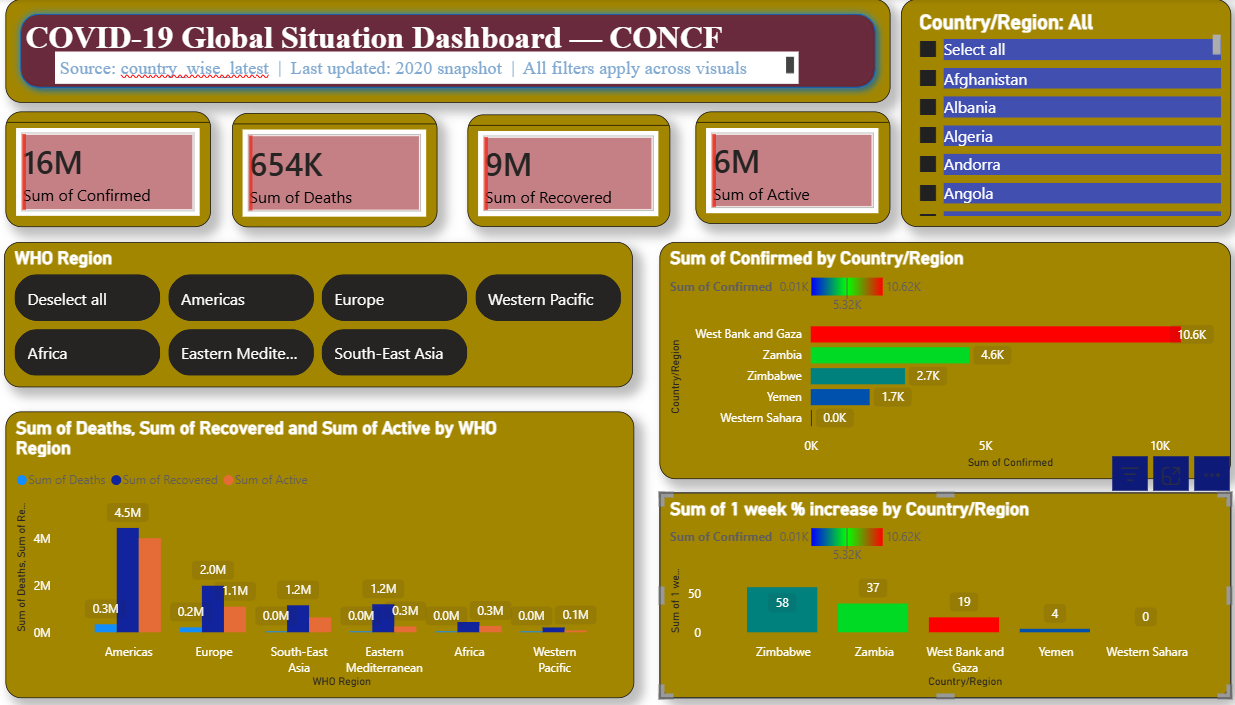

The dashboard page shown, as its layout file describes it:
{"tool":"powerbi","page":{"name":"Page 1","canvas":[1280,720],"ordinal":0},"visuals":[{"type":"shape","box":[28.8,0,893.4,104.5],"z":0},{"type":"textbox","box":[79.3,52.9,750.9,32.6],"z":1000},{"type":"cardVisual","fields":{"Data":["Sum(country_wise_latest.Confirmed)"]},"box":[28.8,113.6,207.4,116.6],"z":2000},{"type":"cardVisual","fields":{"Data":["Sum(country_wise_latest.Deaths)"]},"box":[257.4,115.1,207.4,115.1],"z":3000},{"type":"cardVisual","fields":{"Data":["Sum(country_wise_latest.Recovered)"]},"box":[495.1,116.6,204.4,113.6],"z":4000},{"type":"cardVisual","fields":{"Data":["Sum(country_wise_latest.Active)"]},"box":[725.3,113.6,196.8,113.6],"z":5000},{"type":"advancedSlicerVisual","fields":{"Values":["country_wise_latest.WHO Region"]},"box":[27.3,245.3,634.5,146.9],"z":6000},{"type":"slicer","fields":{"Values":["country_wise_latest.Country/Region"]},"box":[932.8,0,333.1,230.2],"z":7000},{"type":"clusteredBarChart","fields":{"Y":["Sum(country_wise_latest.Confirmed)"],"Category":["country_wise_latest.Country/Region"]},"box":[689,245.3,576.9,239.2],"z":8000},{"type":"clusteredColumnChart","fields":{"Category":["country_wise_latest.WHO Region"],"Y":["Sum(country_wise_latest.Deaths)","Sum(country_wise_latest.Recovered)","Sum(country_wise_latest.Active)"]},"box":[28.8,416.4,634.5,289.2],"z":9000},{"type":"columnChart","fields":{"Category":["country_wise_latest.Country/Region"],"Y":["Sum(country_wise_latest.1 week % increase)"]},"box":[689,498.2,576.9,207.4],"z":10000}]}

Visuals, with their boxes in screenshot pixels (x1, y1, x2, y2), scaled from the page's 1280x720 canvas onto the 1235x705 screenshot:
shape: locate(28, 0, 890, 102)
textbox: locate(77, 52, 801, 84)
cardVisual - Sum(country_wise_latest.Confirmed): locate(28, 111, 228, 225)
cardVisual - Sum(country_wise_latest.Deaths): locate(248, 113, 448, 225)
cardVisual - Sum(country_wise_latest.Recovered): locate(478, 114, 675, 225)
cardVisual - Sum(country_wise_latest.Active): locate(700, 111, 890, 222)
advancedSlicerVisual - country_wise_latest.WHO Region: locate(26, 240, 639, 384)
slicer - country_wise_latest.Country/Region: locate(900, 0, 1221, 225)
clusteredBarChart - Sum(country_wise_latest.Confirmed) x country_wise_latest.Country/Region: locate(665, 240, 1221, 474)
clusteredColumnChart - country_wise_latest.WHO Region x Sum(country_wise_latest.Deaths): locate(28, 408, 640, 691)
columnChart - country_wise_latest.Country/Region x Sum(country_wise_latest.1 week % increase): locate(665, 488, 1221, 691)
